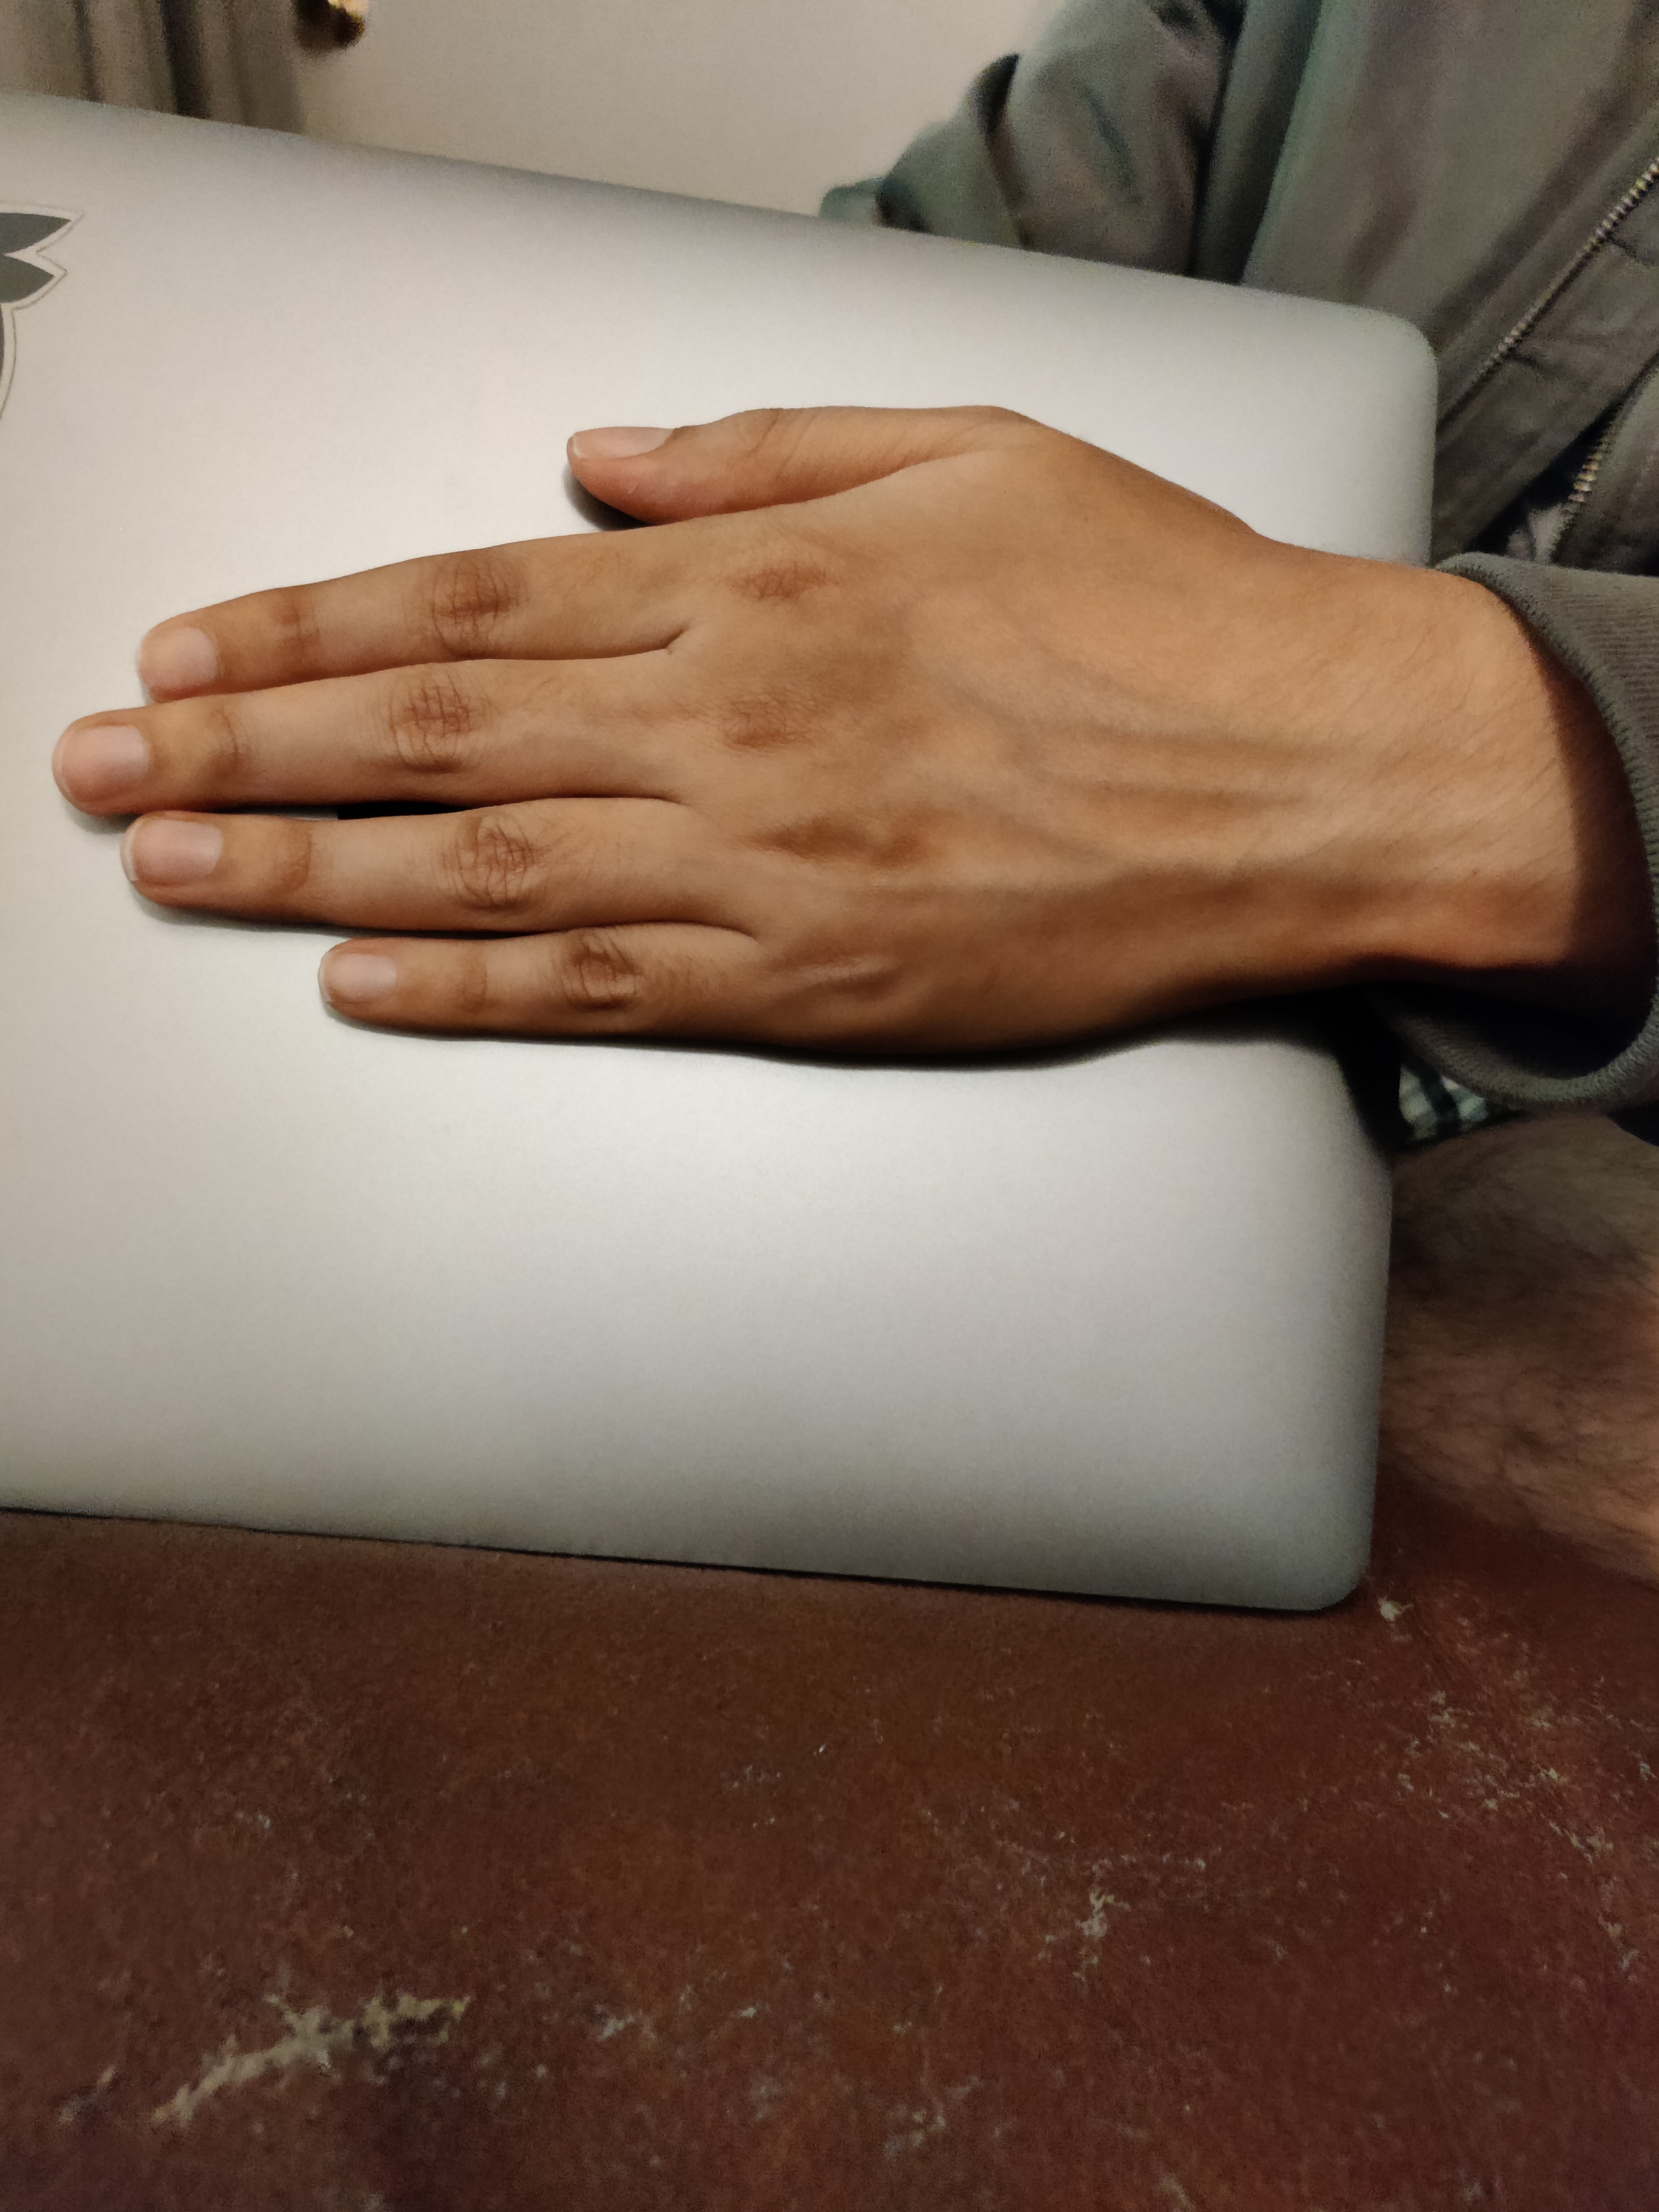right: (37, 336, 1593, 1303)
